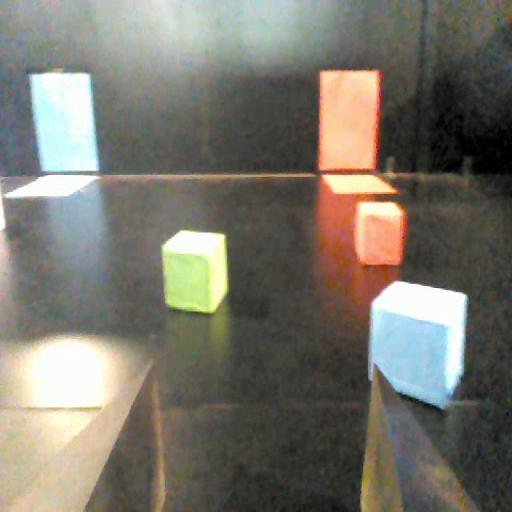cube: (367, 278, 468, 410), (158, 226, 234, 314), (353, 200, 406, 272)
